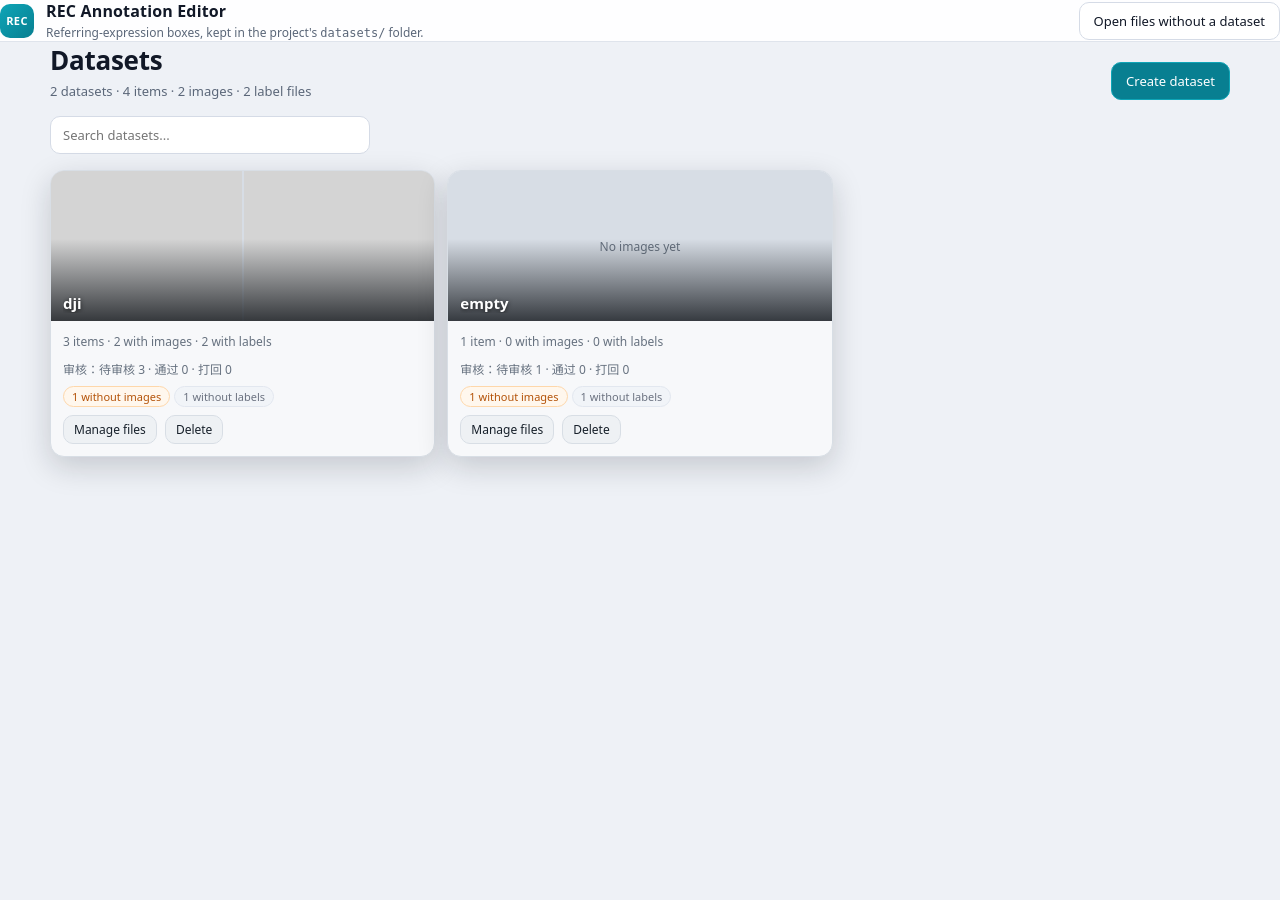
Test: asks for the name only after Create dataset is clicked
The image size is (1280, 900).
Expected: the list item with test id "dataset-card-dji" is shown, [50,170,435,457]
Click the button "Create dataset": (1171, 81) [1111,62,1230,100]
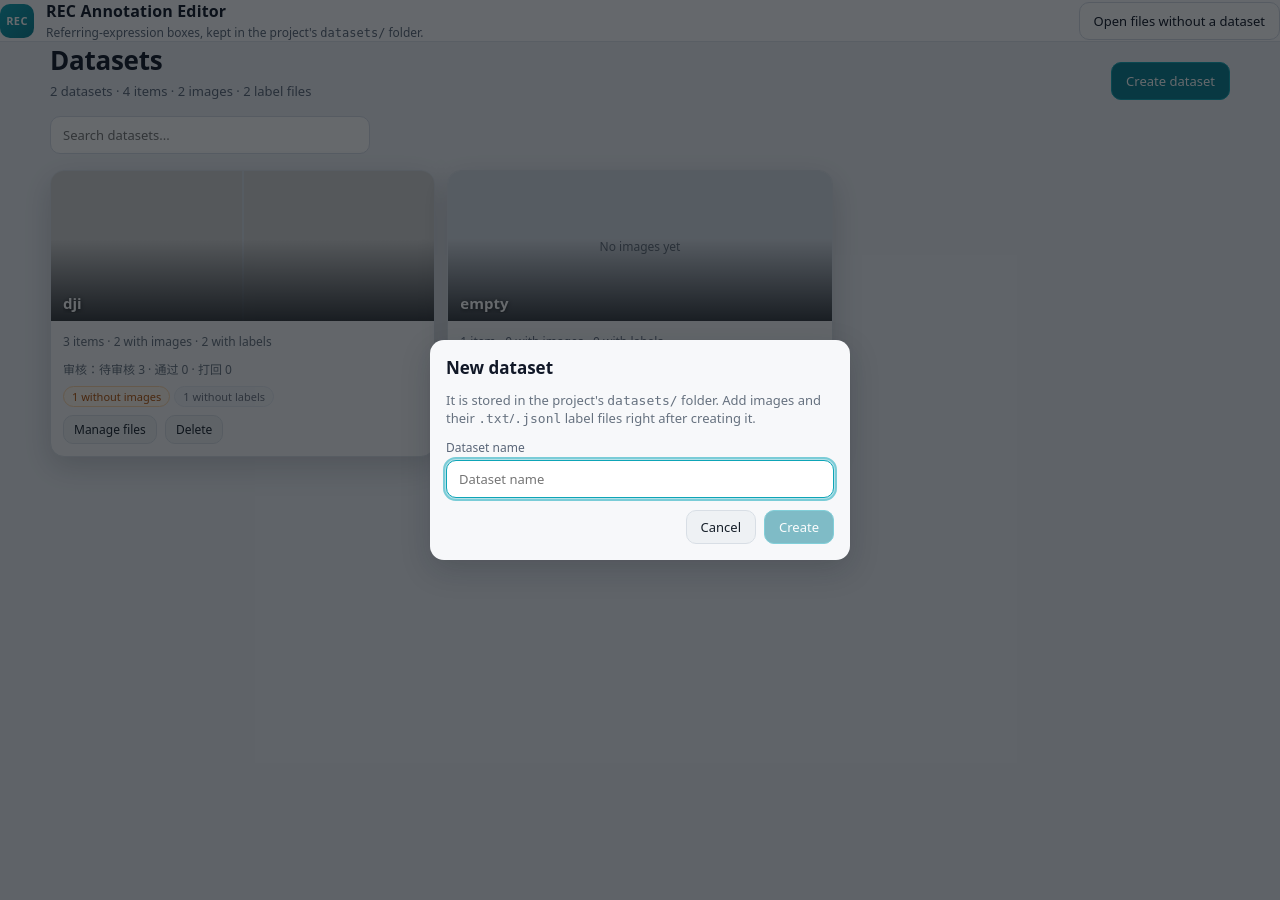
Result: the button "Create" is disabled at [764,510,834,544]
In the field named "New dataset name": (640, 479) [446,460,834,498], type "night-flights"
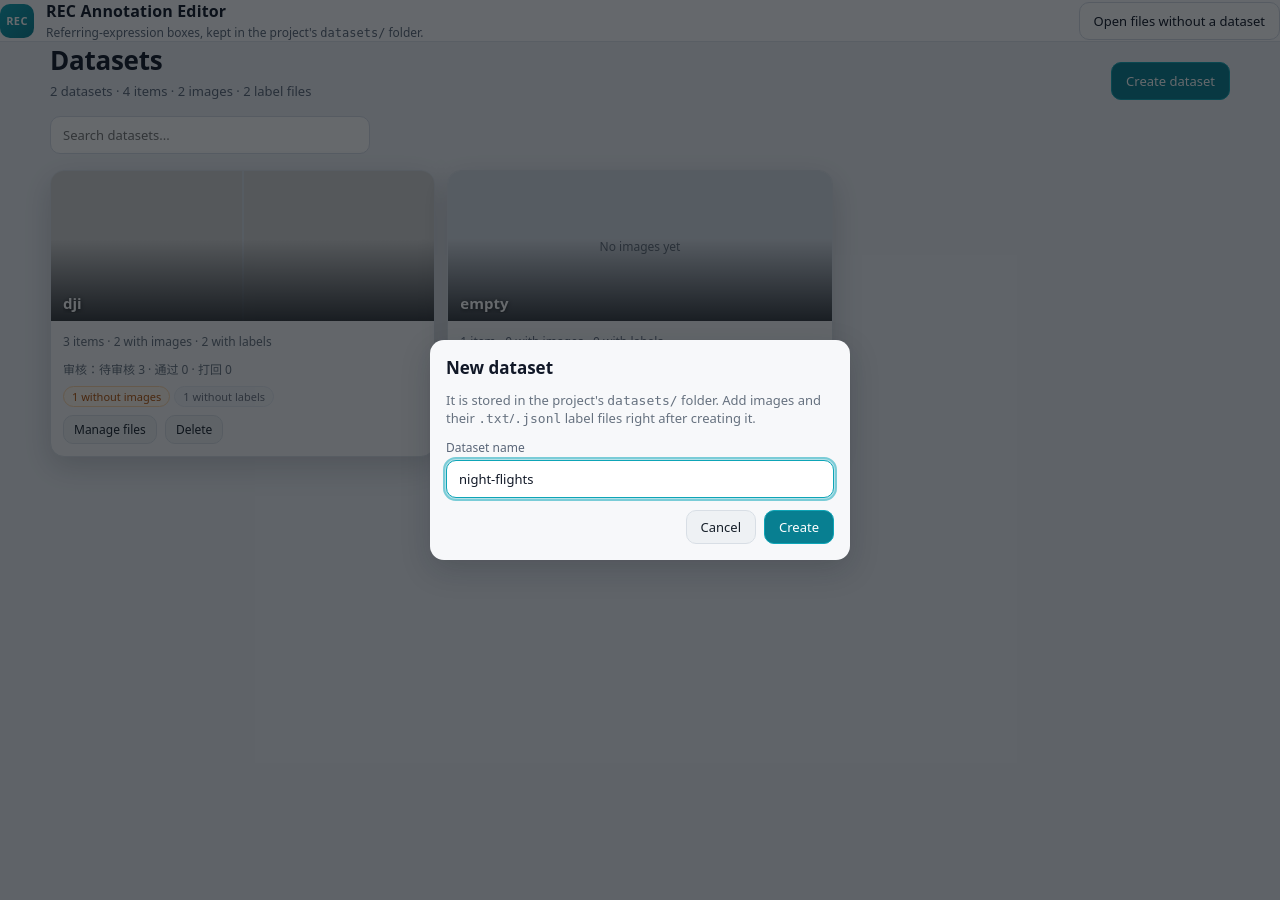
Click the button "Create": (799, 527) [764,510,834,544]
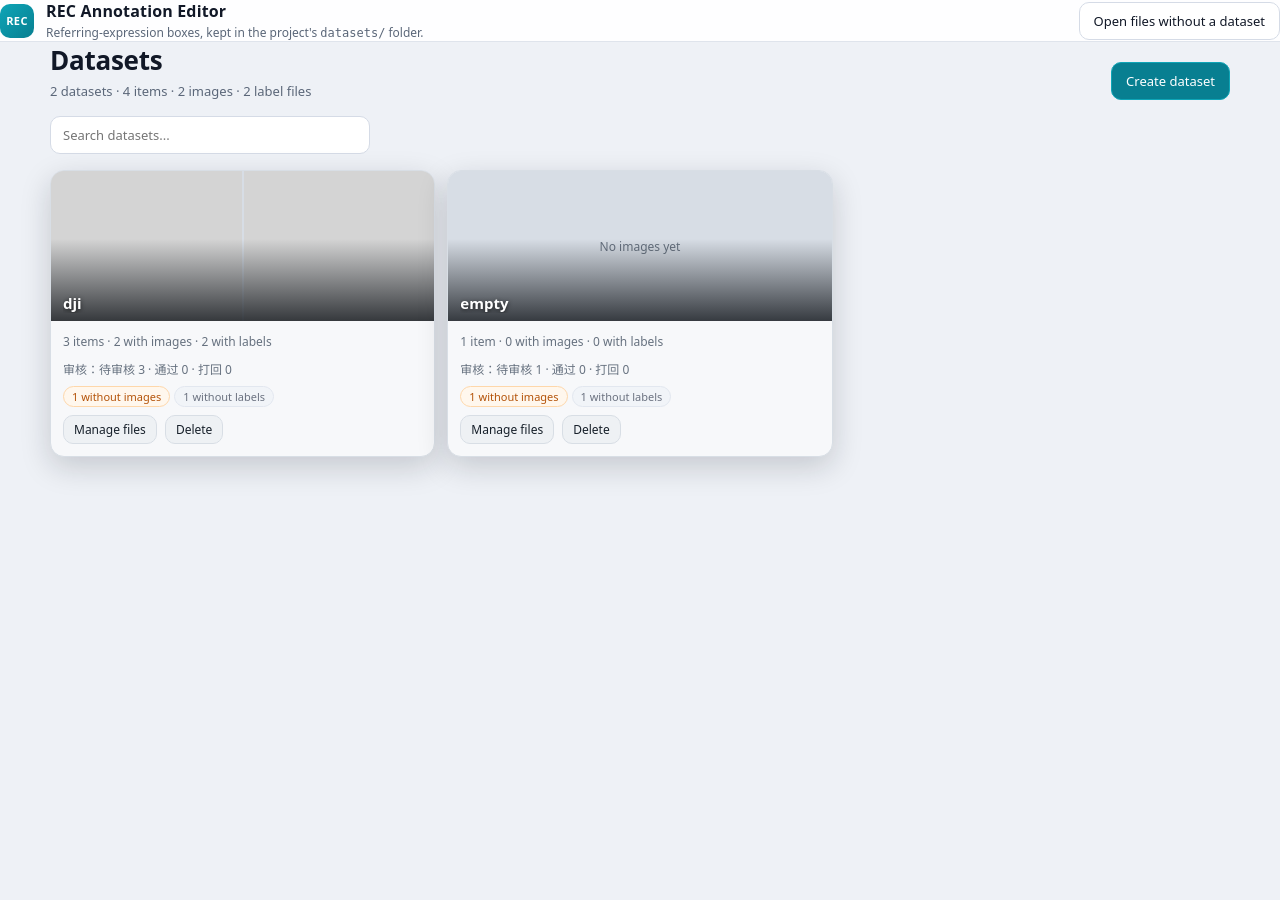
Result: the heading "New dataset" is gone
